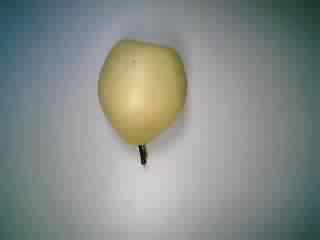pear: (78, 34, 193, 172)
